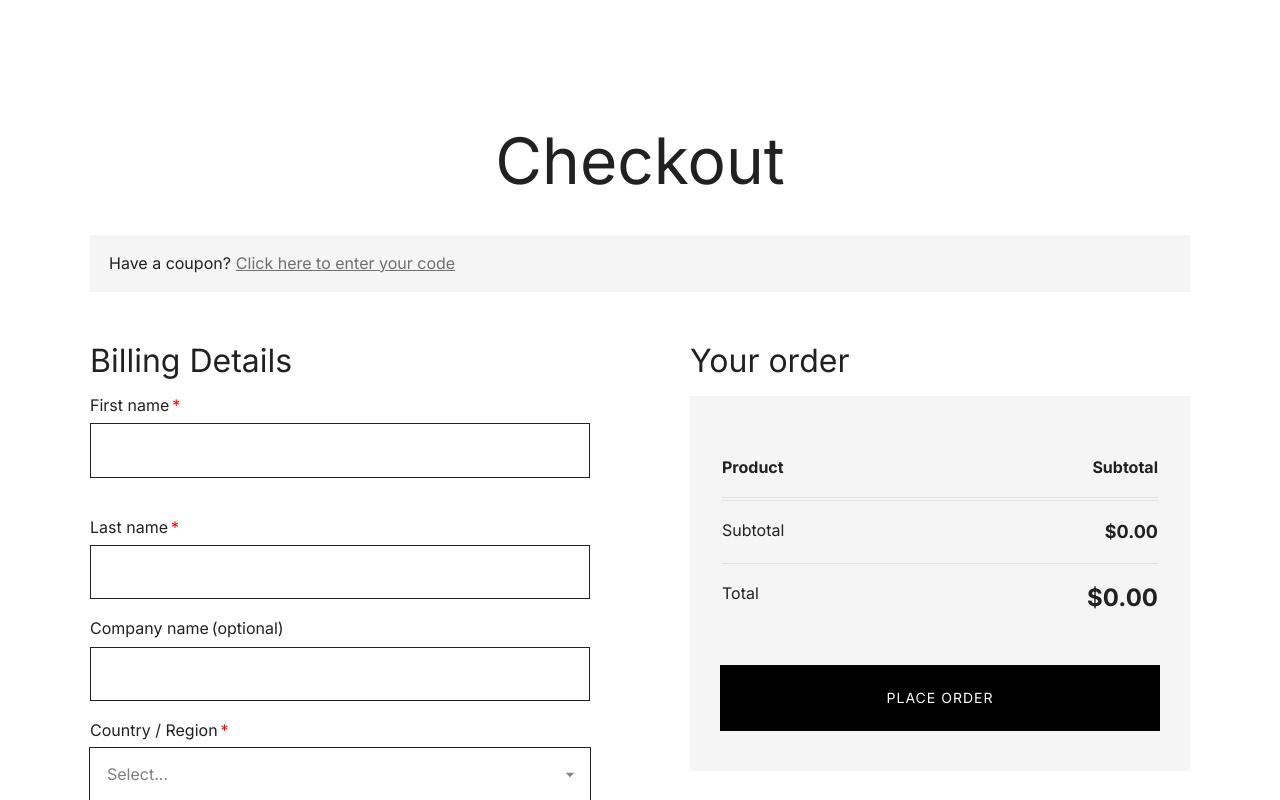
Test case: Checkout › should display an error message if last name is not valid
In the field labelled "Last name*": (340, 572) [90,545,590,599], type "anz%$_+-&!"
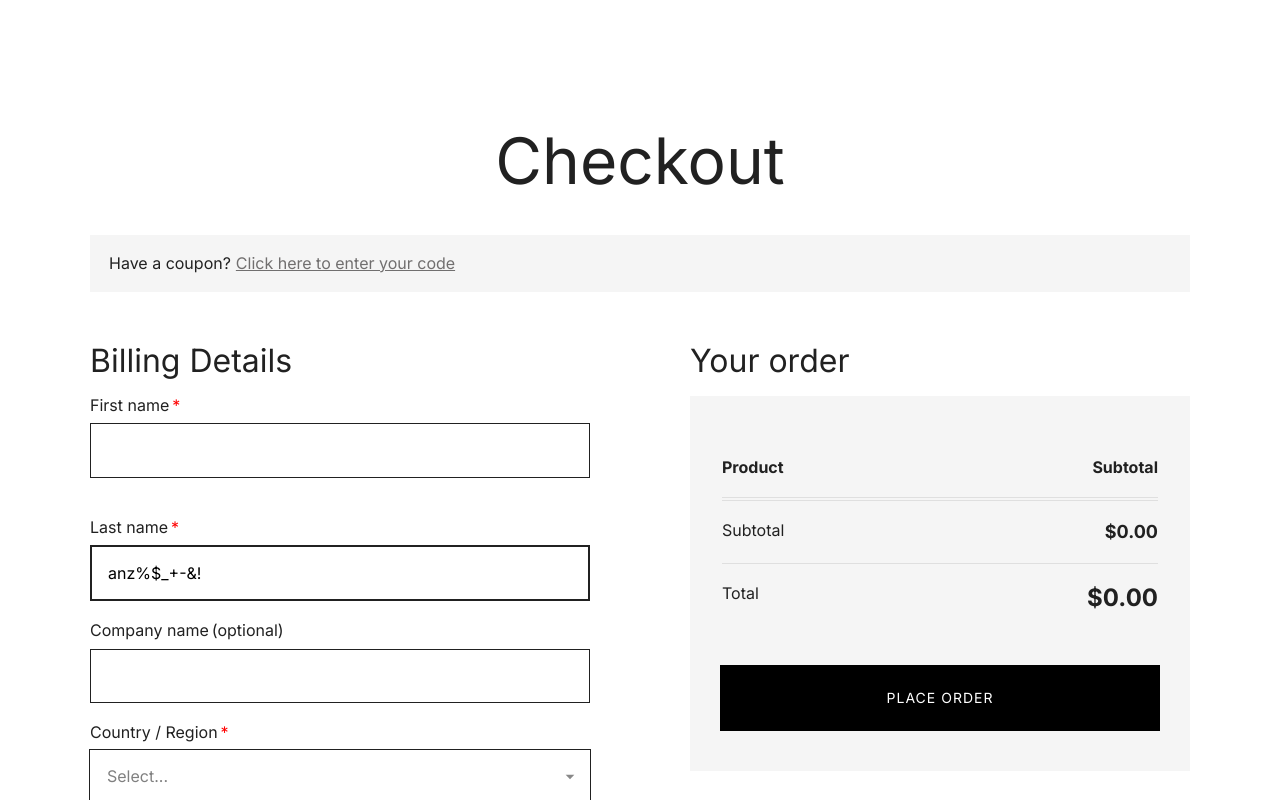
Click the button "PLACE ORDER": (940, 698) [720,665,1160,731]
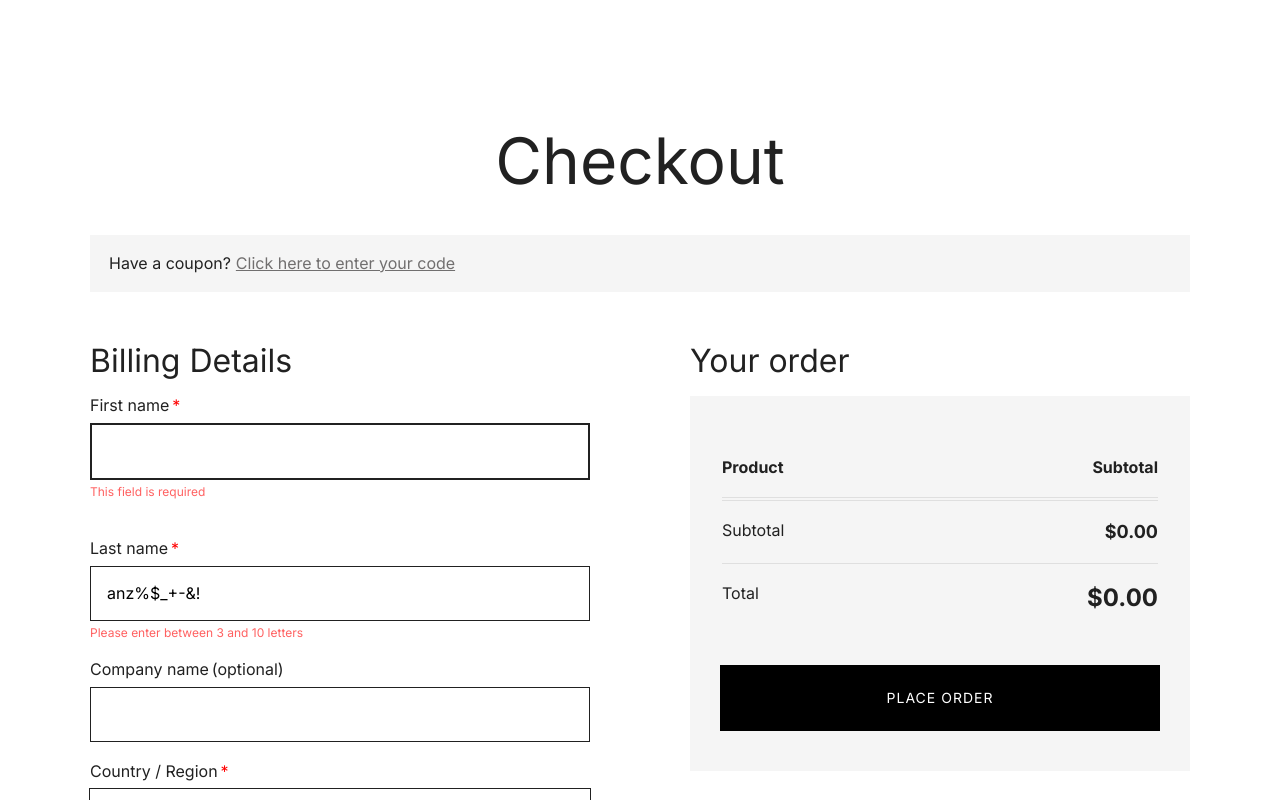
Check: the text "Please enter between 3 and 10 letters" is shown, box [90,625,303,640]
